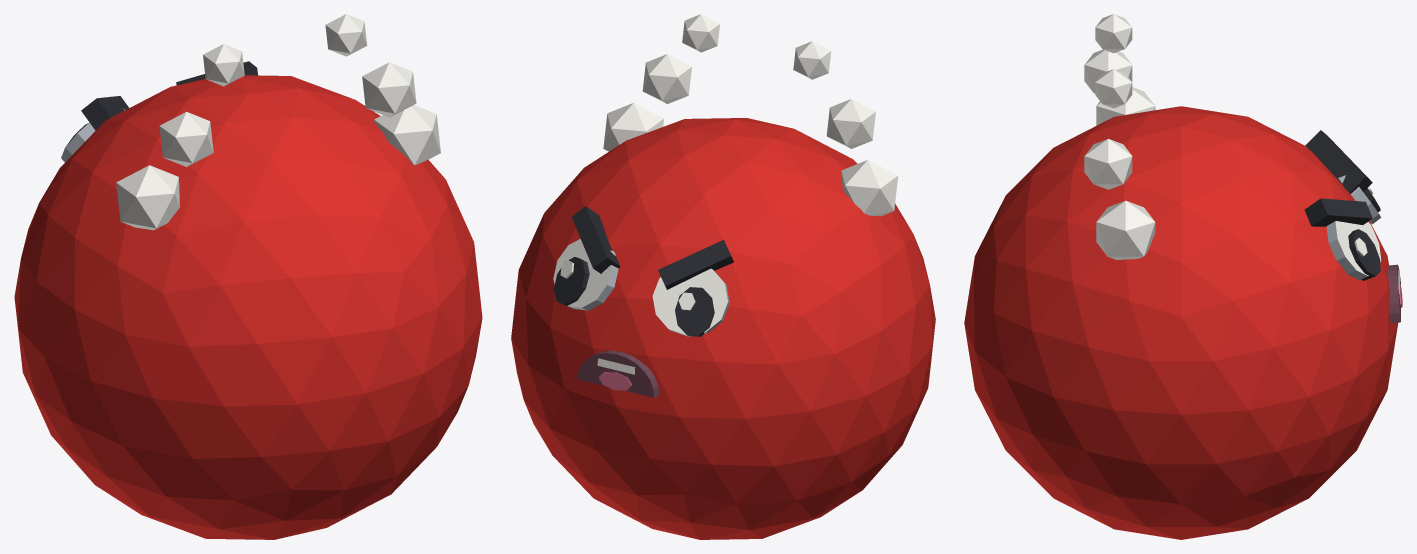
File: CH_Topik_T5.fbx
The picture shows the model from 3 angles, left to right: view 1: azimuth 30°, elevation 25°; view 2: azimuth 150°, elevation 25°; view 3: azimuth 270°, elevation 25°; orthographic projection. The views are drawn at different scales.
Parts seen in each view (by area): view 1: CH_Topik_T5; view 2: CH_Topik_T5; view 3: CH_Topik_T5.
Part boxes in pixels (left/top/right/bottom): CH_Topik_T5: left=14, top=14, right=482, bottom=539; CH_Topik_T5: left=511, top=14, right=935, bottom=539; CH_Topik_T5: left=964, top=14, right=1402, bottom=539.
Size of the model in its own units: 1 by 1.22 by 1.01.
